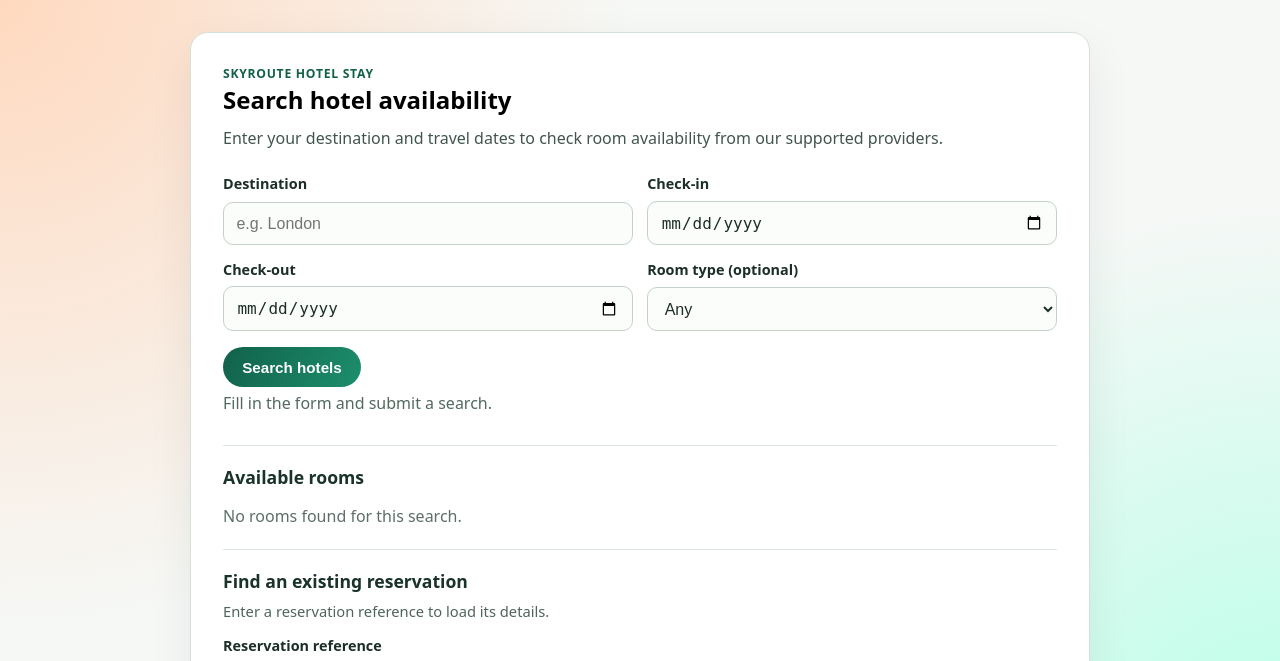
App — validation state › shows an error when check-out is not after check-in
In the field labelled "Destination": x=428, y=224 [223,202,633,246], type "London"
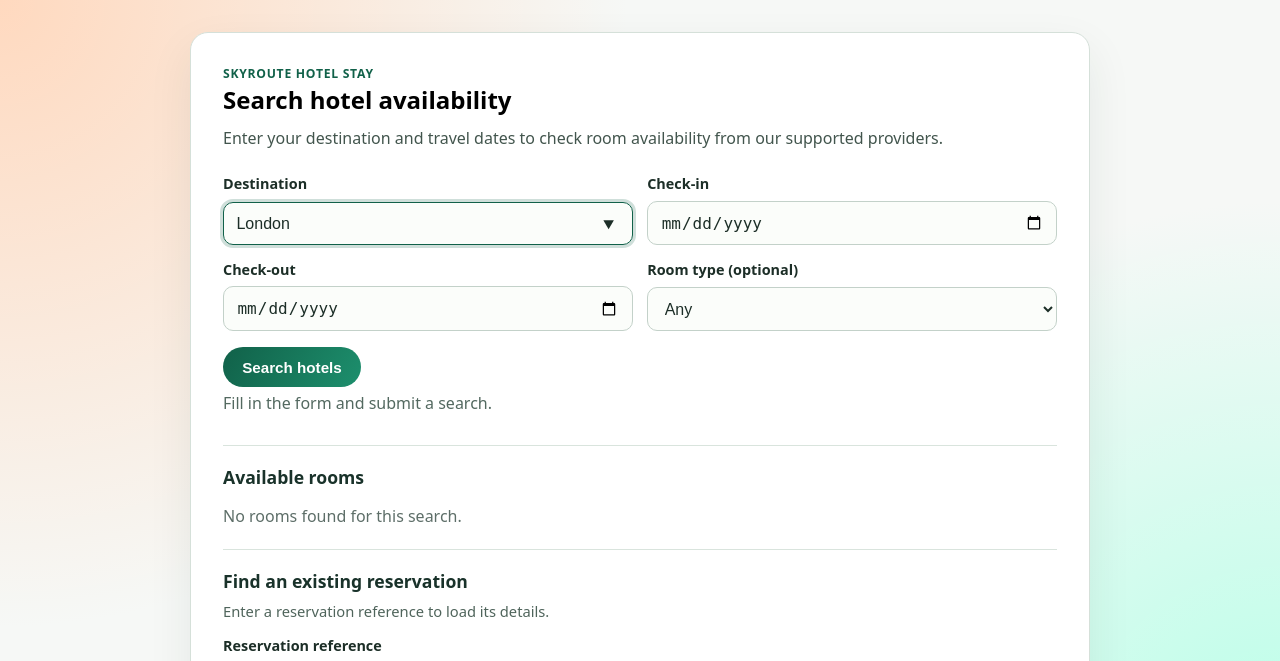
In the date field labelled "Check-in": x=852, y=223 [647,201,1057,246], type "2026-09-04"
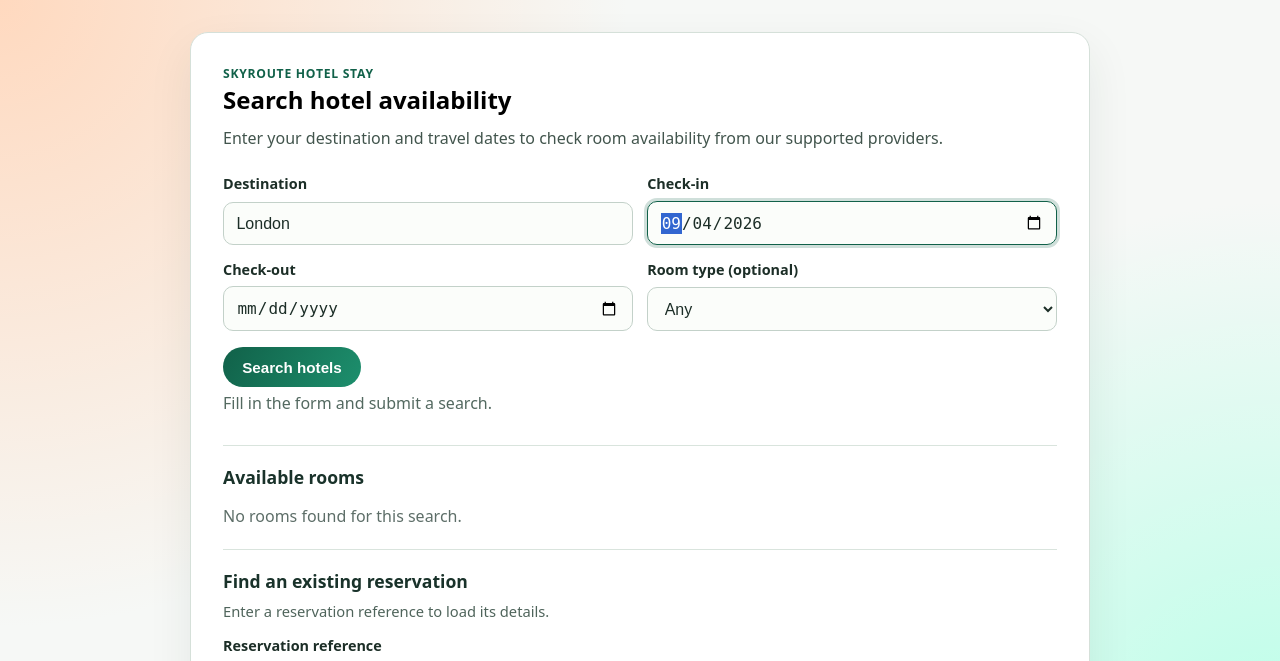
In the date field labelled "Check-out": x=428, y=309 [223,286,633,331], type "2026-09-01"
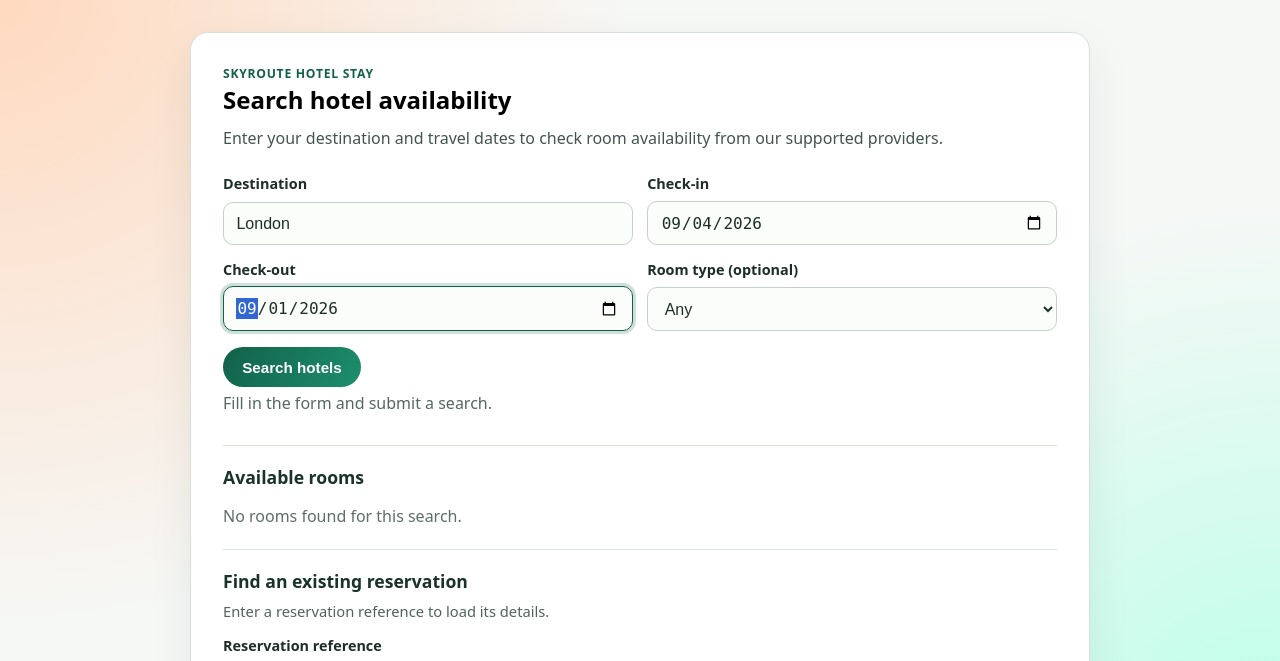
Click the button "Search hotels": x=292, y=367 [223,347,361,387]
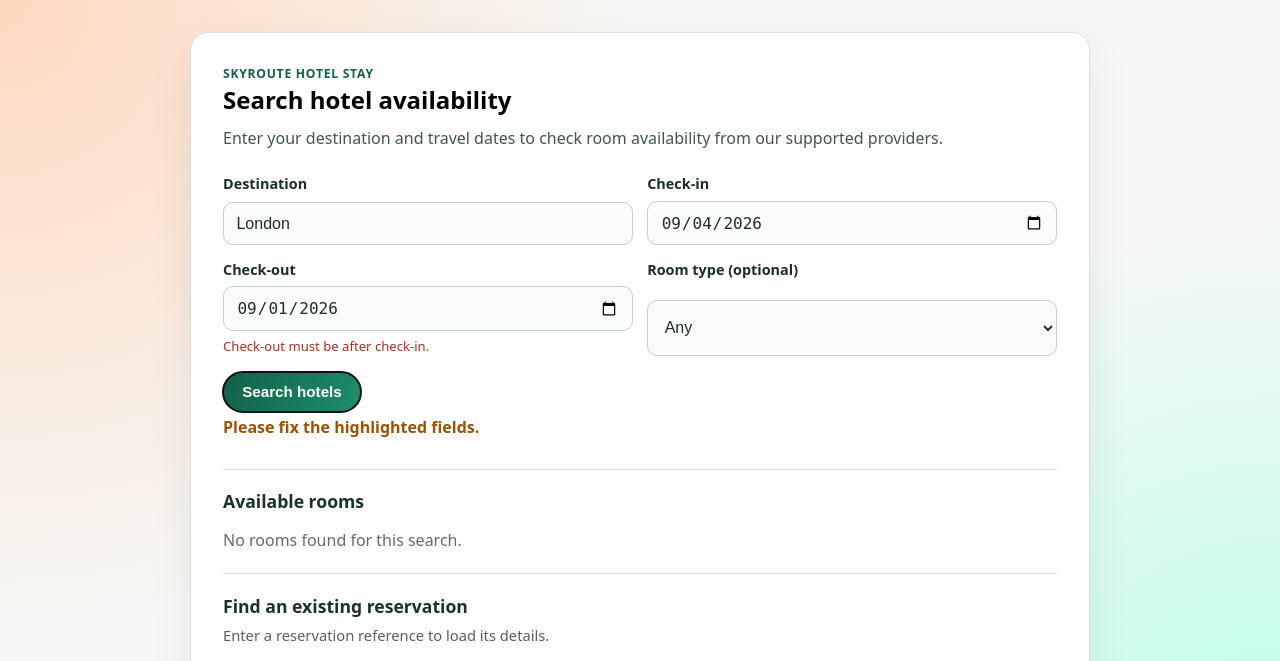
Now the text "Check-out must be after check-in." is shown, box [223,337,429,355]
